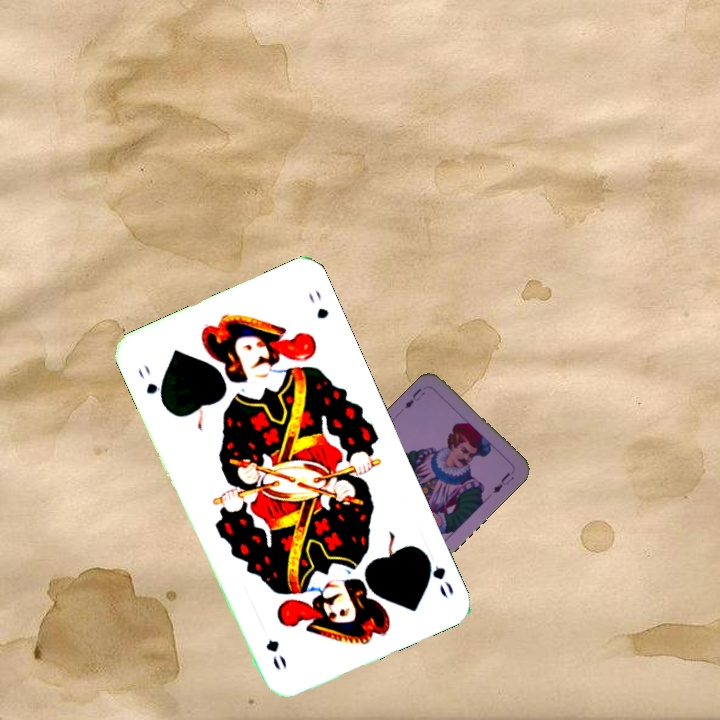EU: (400, 384, 428, 411)
GO: (418, 547, 457, 601), (134, 361, 168, 409)
